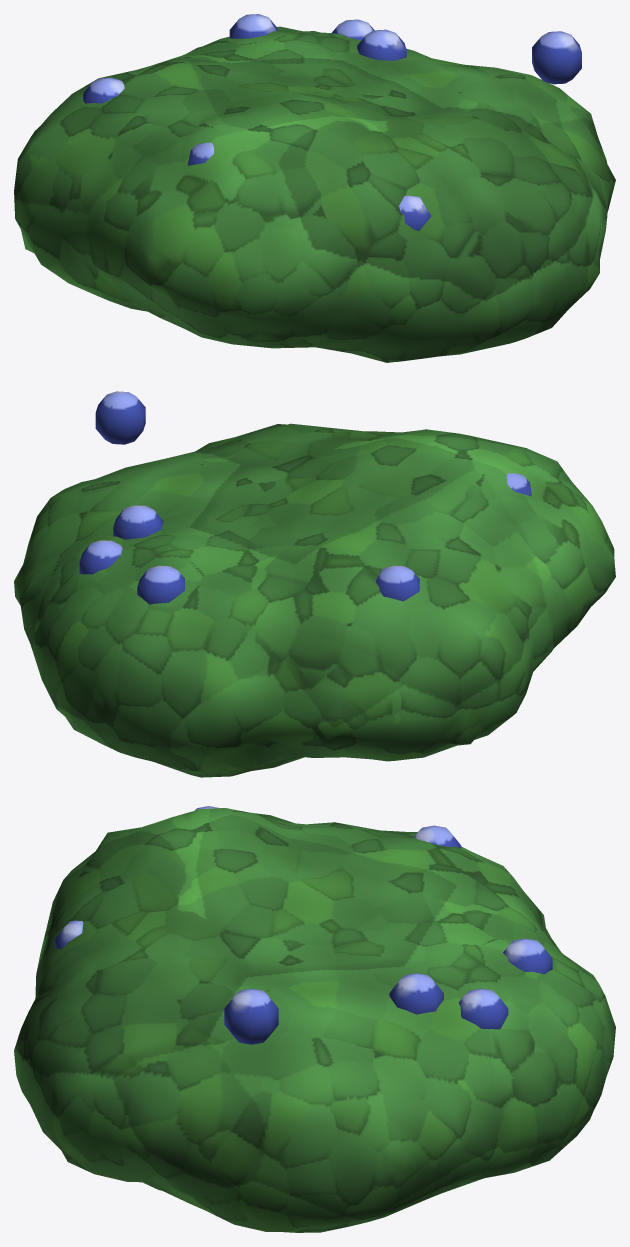
The model's file is blueberry_bush.glb.
The picture shows the model from 3 angles, top to bottom: view 1: azimuth 30°, elevation 25°; view 2: azimuth 150°, elevation 25°; view 3: azimuth 270°, elevation 25°; orthographic projection. The views are drawn at different scales.
Parts seen in each view (by area): view 1: Blueberry; view 2: Blueberry; view 3: Blueberry.
Part boxes in pixels (x1,y1,x2,y2): Blueberry: [14, 14, 615, 362]; Blueberry: [14, 391, 615, 777]; Blueberry: [14, 806, 615, 1232].
Bounding box in the file's own units: 0.9848 × 0.4594 × 0.945.
1 material, 1 textured.
